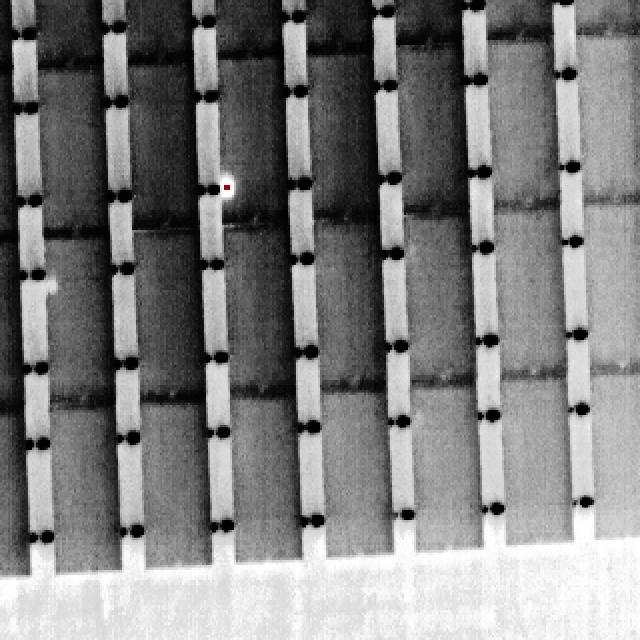Hotspots: (216, 175, 234, 201)
PV-modules: (138, 402, 220, 577), (494, 382, 576, 555), (222, 396, 302, 571), (412, 386, 493, 558), (488, 205, 571, 372), (46, 409, 126, 582), (312, 220, 392, 393), (398, 40, 478, 211), (318, 394, 398, 565), (405, 210, 486, 378), (218, 228, 298, 397), (483, 34, 562, 204), (306, 48, 386, 214), (34, 70, 113, 238), (213, 51, 291, 221), (41, 238, 119, 408), (134, 232, 212, 402), (128, 68, 206, 232), (576, 31, 640, 201), (580, 202, 640, 378), (589, 376, 640, 549), (0, 413, 30, 585), (30, 0, 108, 62), (112, 0, 192, 60), (0, 245, 26, 410), (206, 0, 286, 52), (298, 0, 376, 50), (390, 0, 470, 40), (0, 75, 18, 243), (474, 0, 554, 32), (568, 0, 638, 32), (0, 0, 12, 75)
